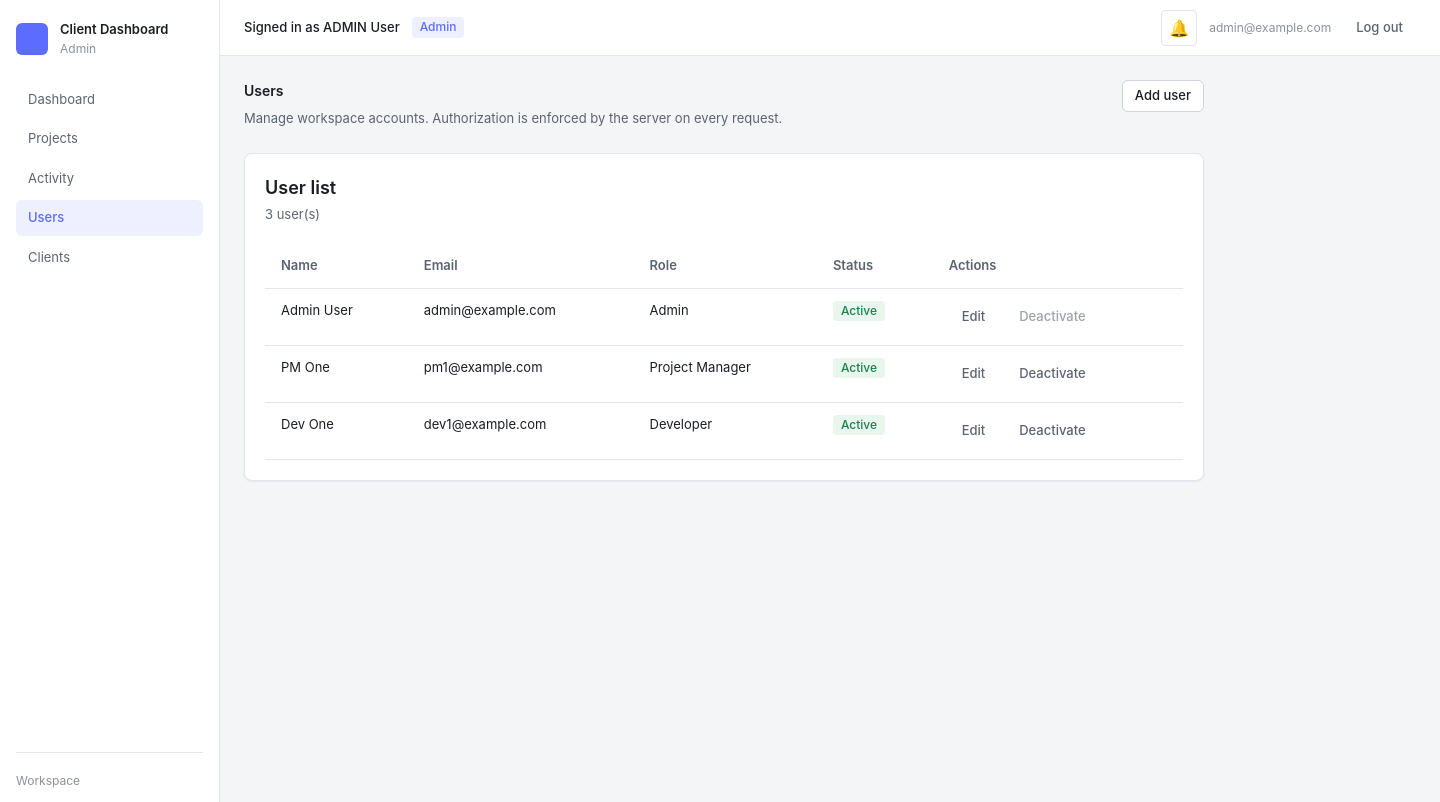
Test: Admin user management UI › renders server validation errors on create
The width and height of the screenshot is (1440, 802).
Click the button "Add user".
click(1163, 96)  # box [1122, 80, 1204, 112]
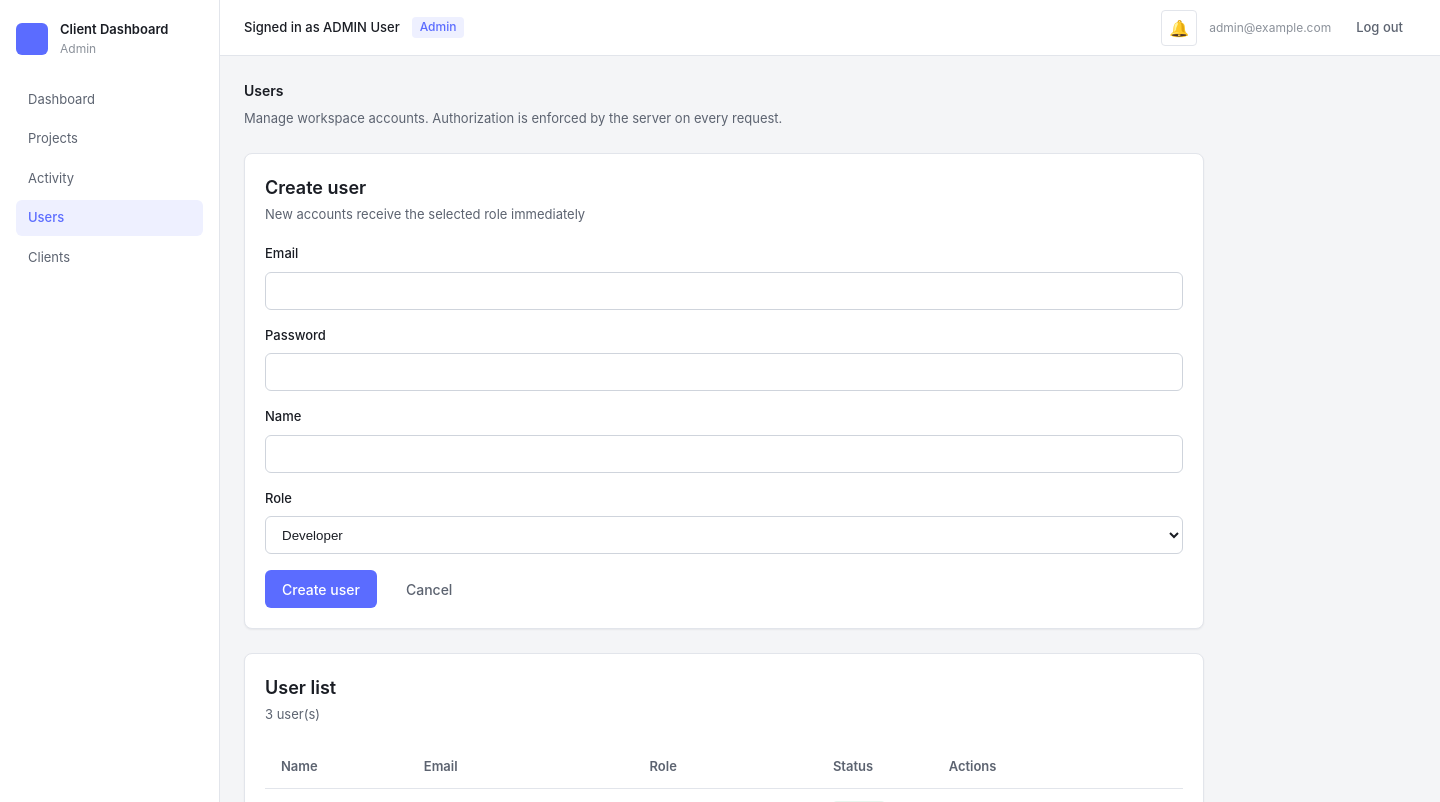
Type "bad-email" into the field labelled "Email".
click(724, 290); type("bad-email")  # box [265, 272, 1183, 310]
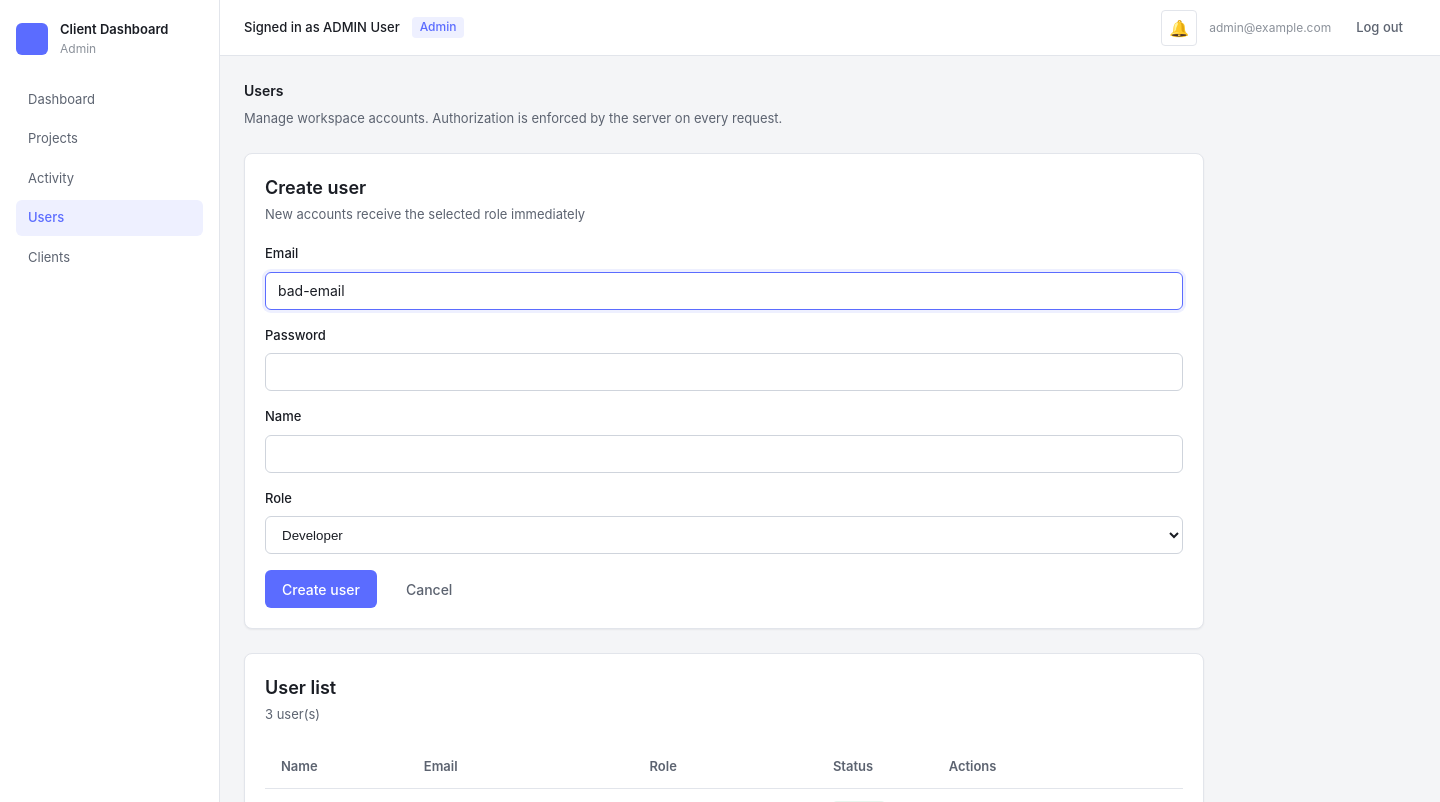
Type "Password123" into the password field labelled "Password".
click(724, 372); type("Password123")  # box [265, 353, 1183, 391]
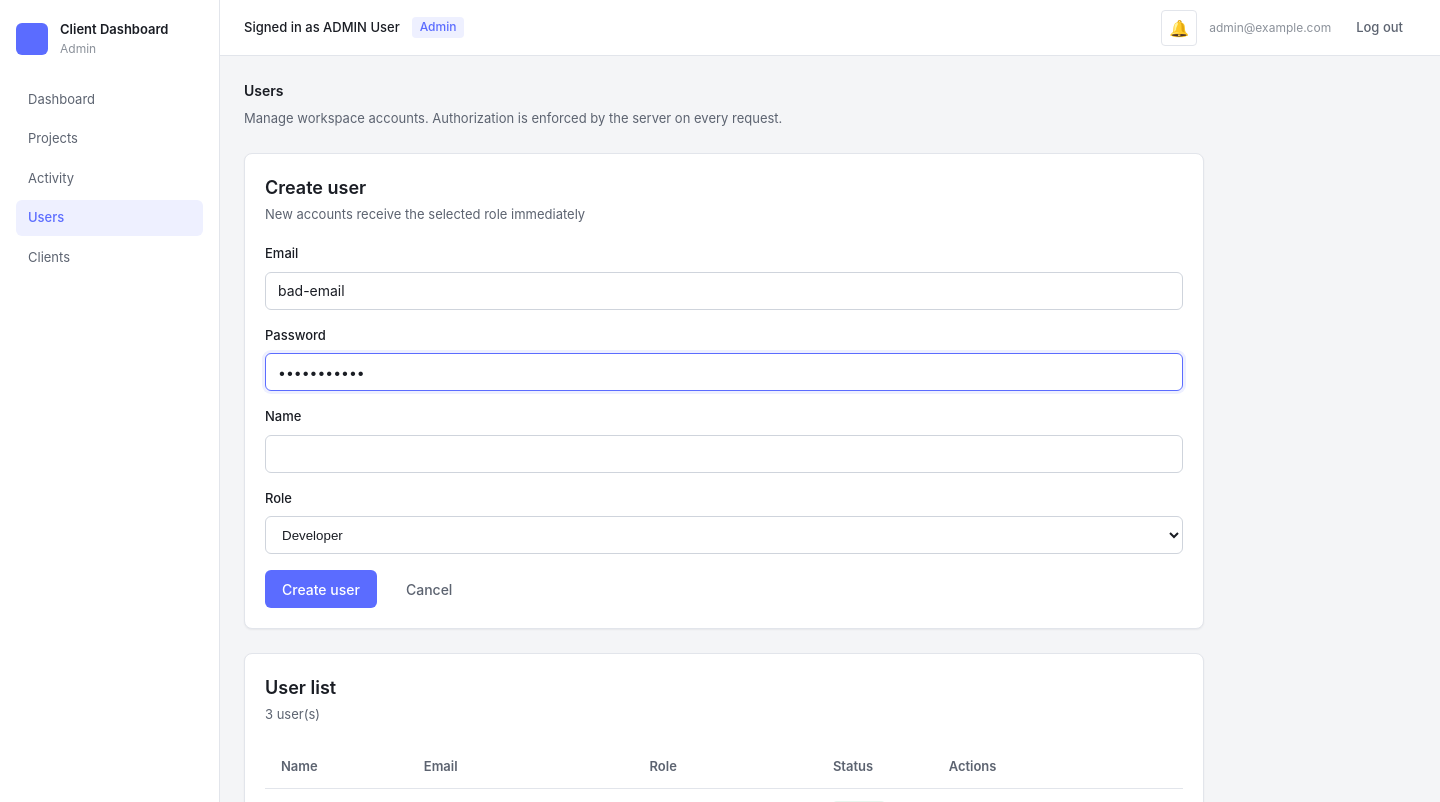
Type "Bad Email User" into the field labelled "Name".
click(724, 454); type("Bad Email User")  # box [265, 434, 1183, 472]
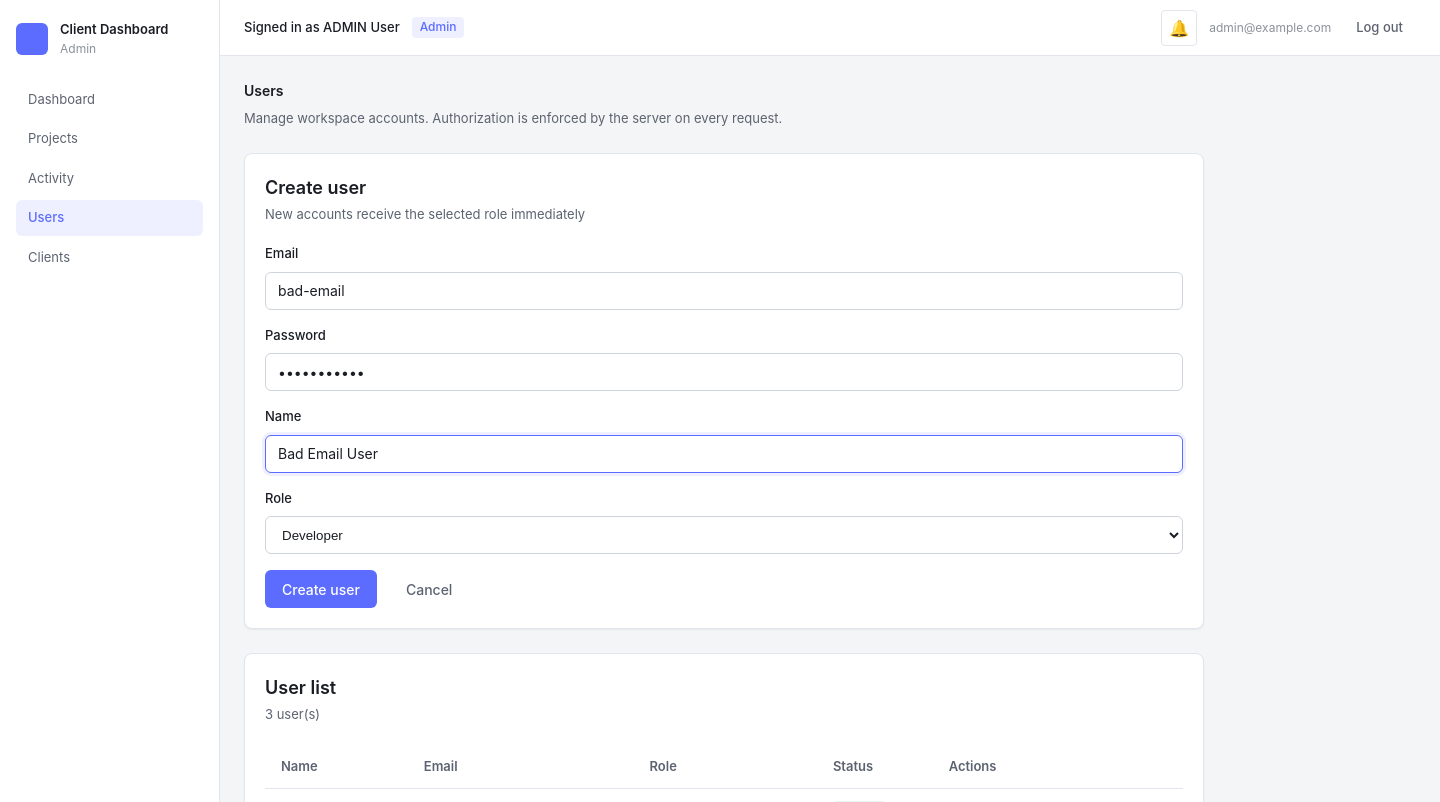
Click the button "Create user".
click(321, 589)  # box [265, 570, 377, 608]
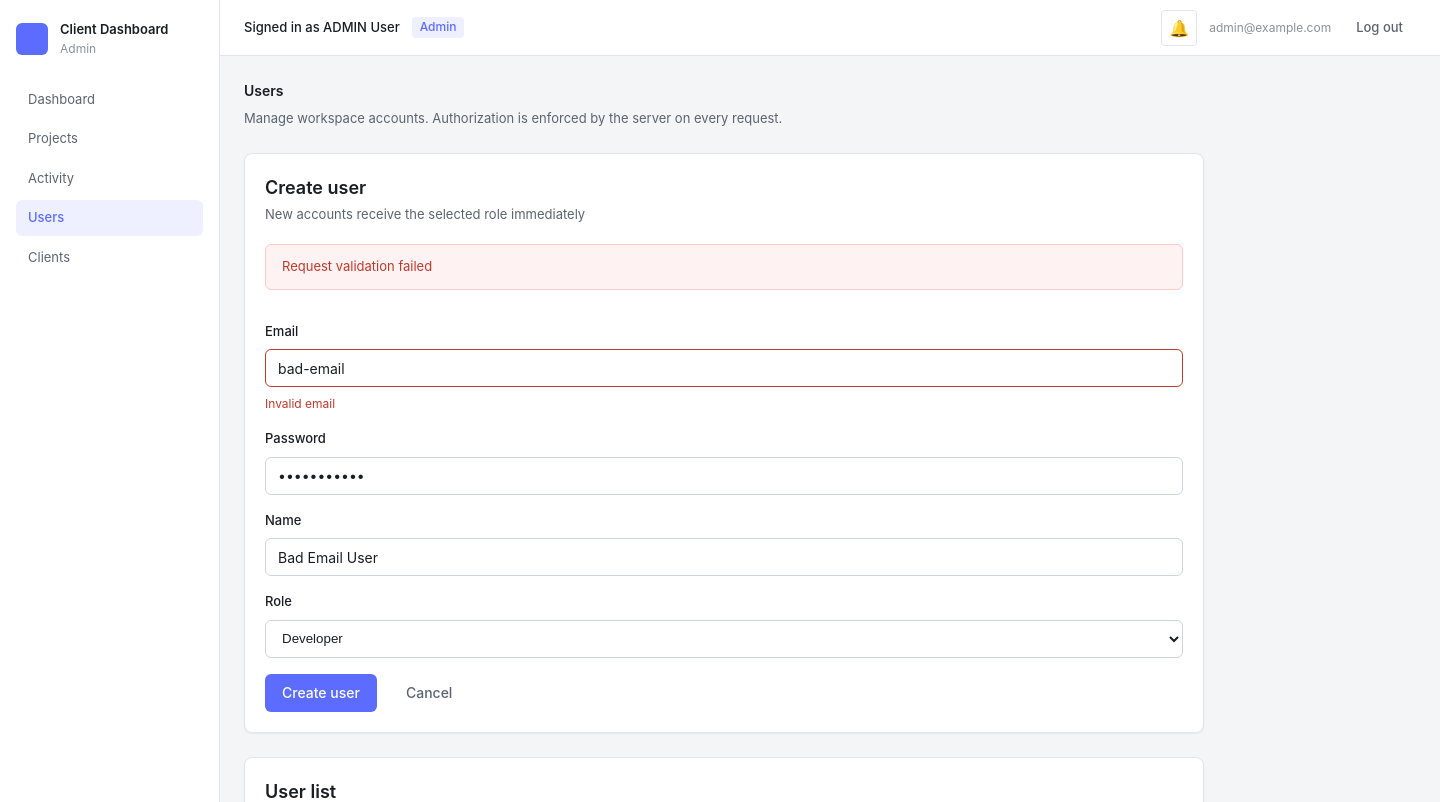
Expected: the text "Request validation failed" is shown, [265, 244, 1183, 290]
